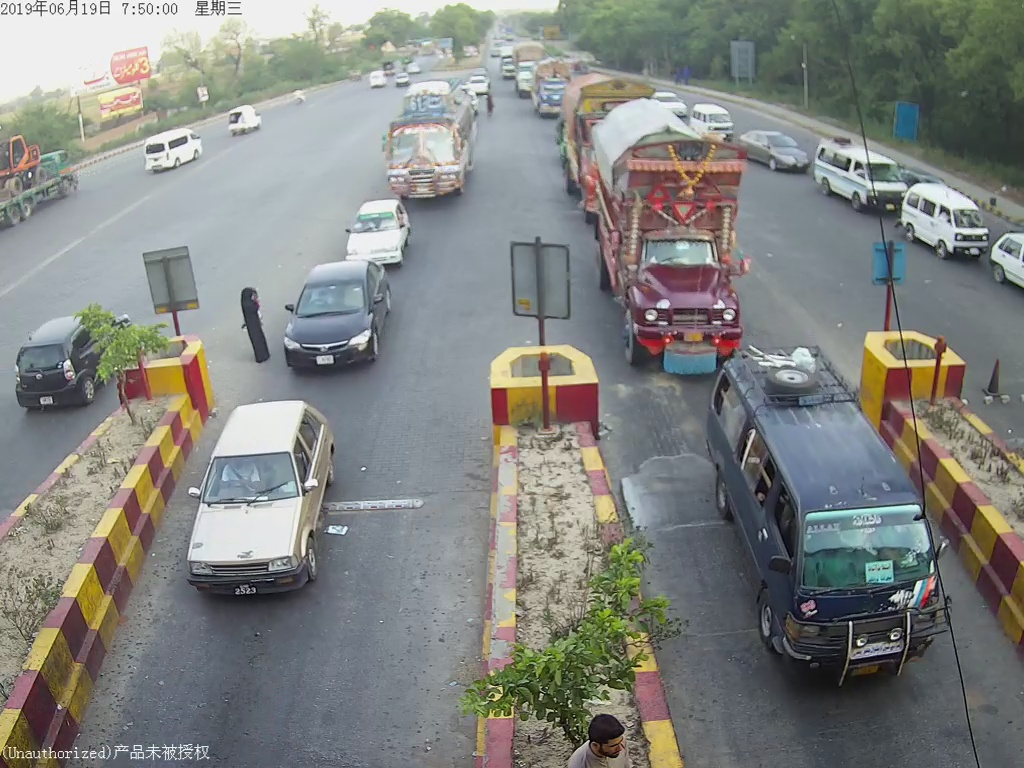Cat-1: (178, 395, 344, 595), (278, 255, 394, 369), (343, 193, 404, 262)
Cat-2: (714, 351, 950, 680)
Cat-3: (378, 74, 480, 202)
Cat-4: (604, 110, 750, 362)
